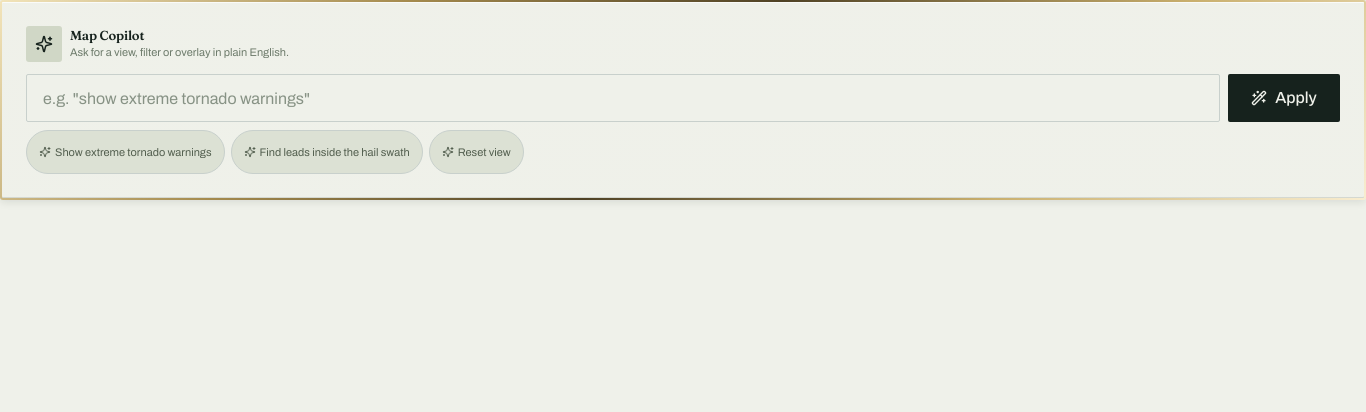
Scenario: MapCopilot › submits a query and applies the validated plan to the map
The width and height of the screenshot is (1366, 412).
Type "show extreme tornado warnings" into the field named "Ask the map copilot" at (623, 98), box top-left (26, 74), bottom-right (1220, 122)
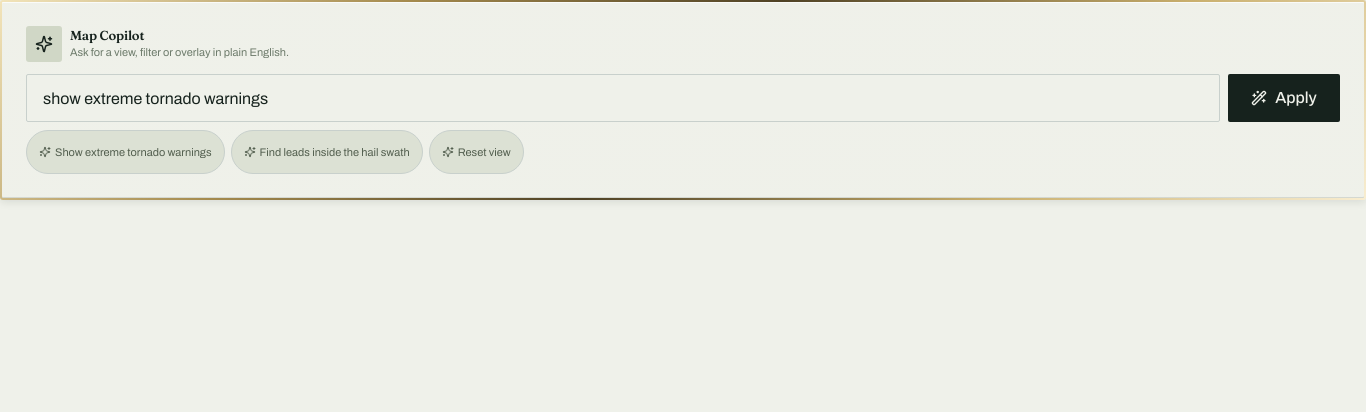
Submit the form, box top-left (26, 74), bottom-right (1340, 122)
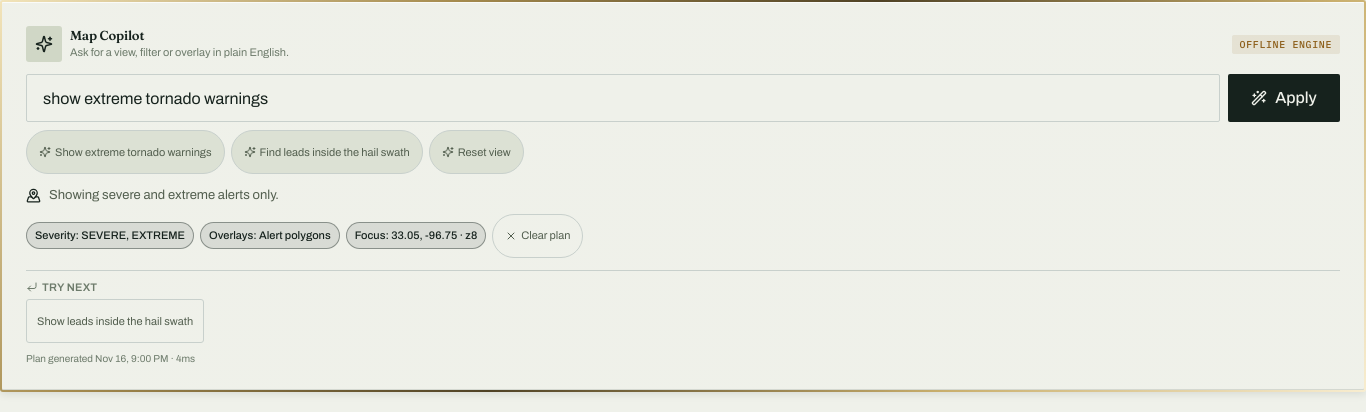
Expected: the text "Showing severe and extreme alerts only." is shown, top-left (49, 186), bottom-right (279, 206)
Expected: the text "Severity: SEVERE, EXTREME" is shown, top-left (26, 222), bottom-right (194, 249)
Expected: the button with aria-label "Clear map copilot plan" is shown, top-left (492, 214), bottom-right (583, 258)
